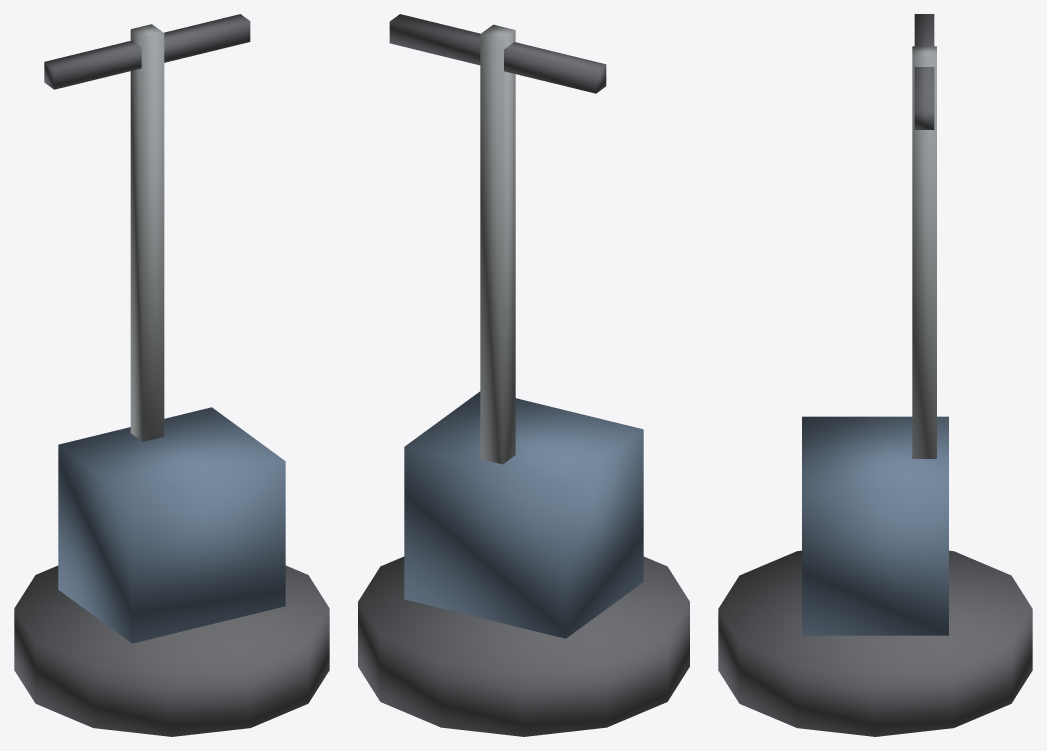
Rendered from floor_buffer__tall.glb.
3 views of the same model, side by side, from view 1: azimuth 30°, elevation 25°; view 2: azimuth 150°, elevation 25°; view 3: azimuth 270°, elevation 25° (orthographic). The views are drawn at different scales.
Parts seen in each view (by area): view 1: world; view 2: world; view 3: world.
Boxes of the visible parts, box(x1,y1,x2,y2) form: world: box(14, 14, 329, 736); world: box(358, 14, 689, 736); world: box(718, 14, 1032, 736).
Size of the model in its own units: 0.64 by 1.39 by 0.64.
